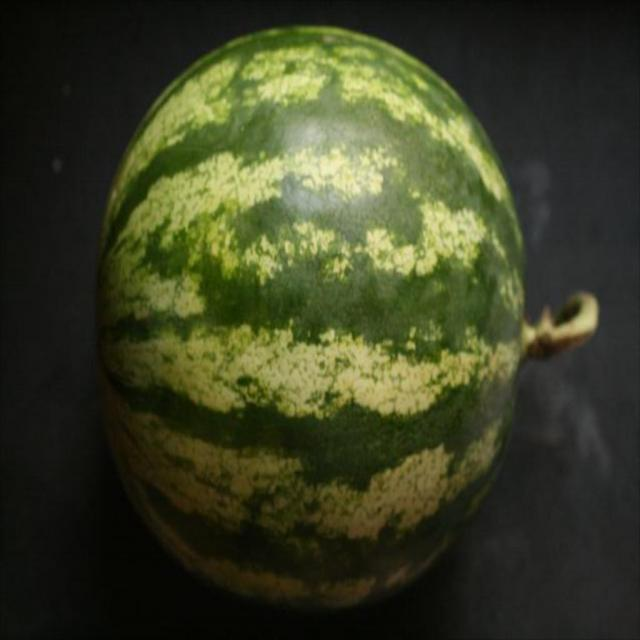Watermelon: (95, 27, 596, 618)
